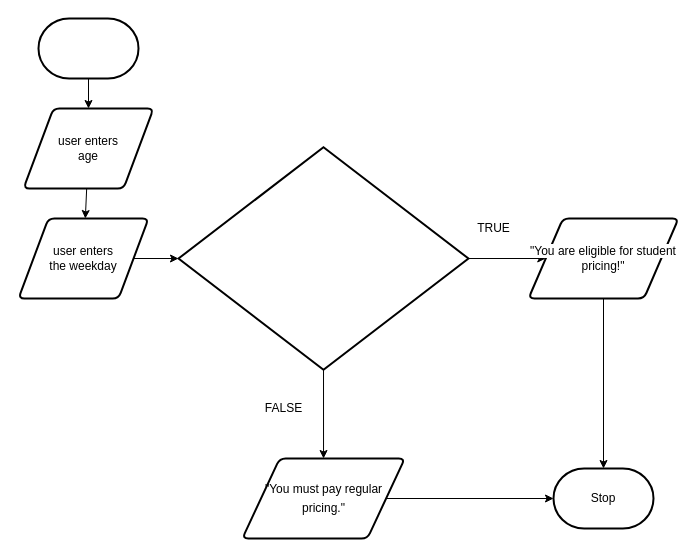
This 696x556 diagram has some shape labels left out. Here are the shapes that lost their labels. From the top down, the centre of each, then its label:
(88,48): Start
(323,258): if (( tuesday == true || thursday) || (age >= 12 && age <= 21 ))
